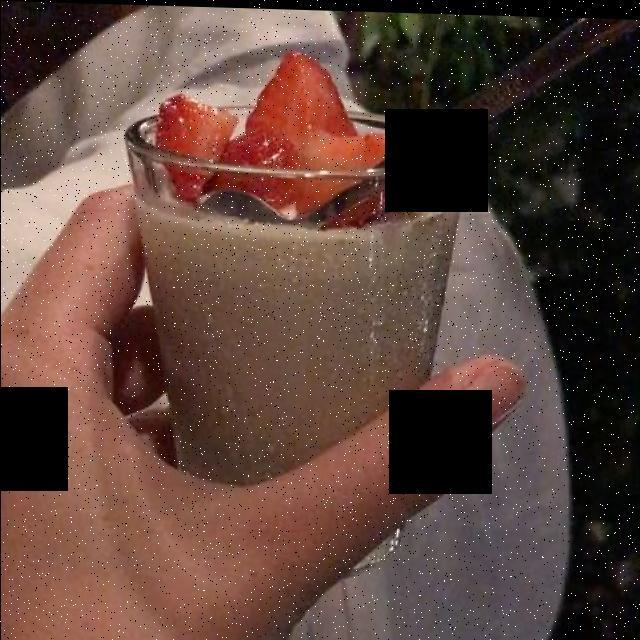panna-cotta: (147, 126, 451, 470)
strawberries: (150, 55, 411, 211)
